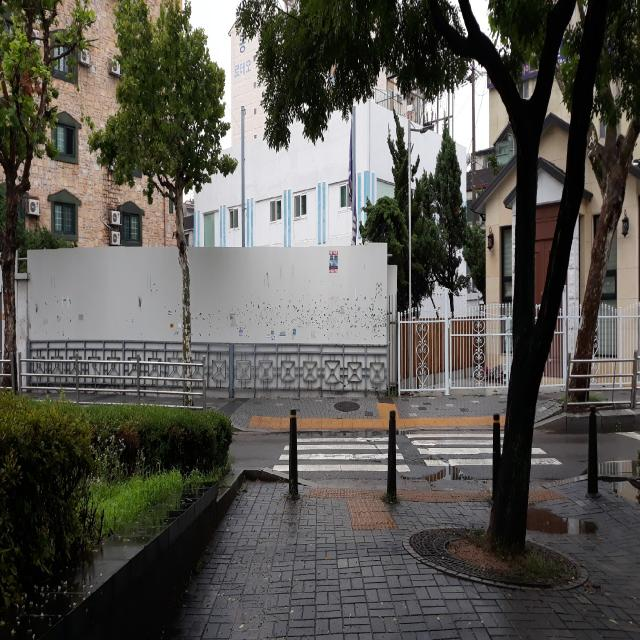횡단보도: (272, 432, 564, 476)
